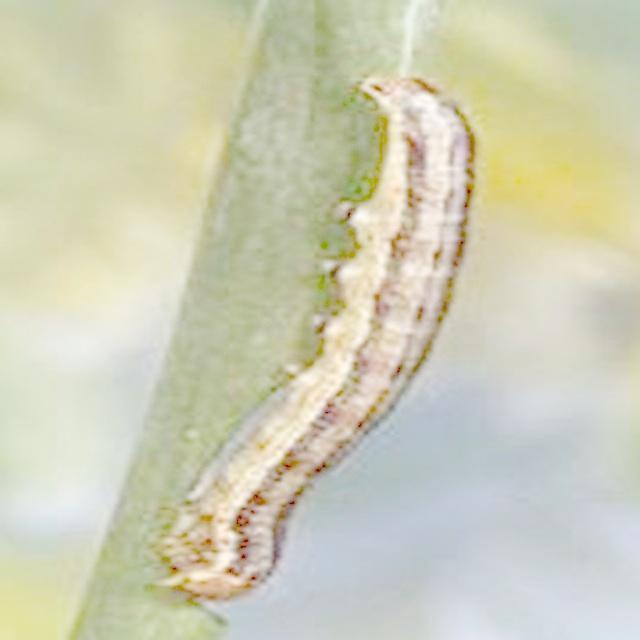gusano_cogollero: (142, 63, 480, 620)
